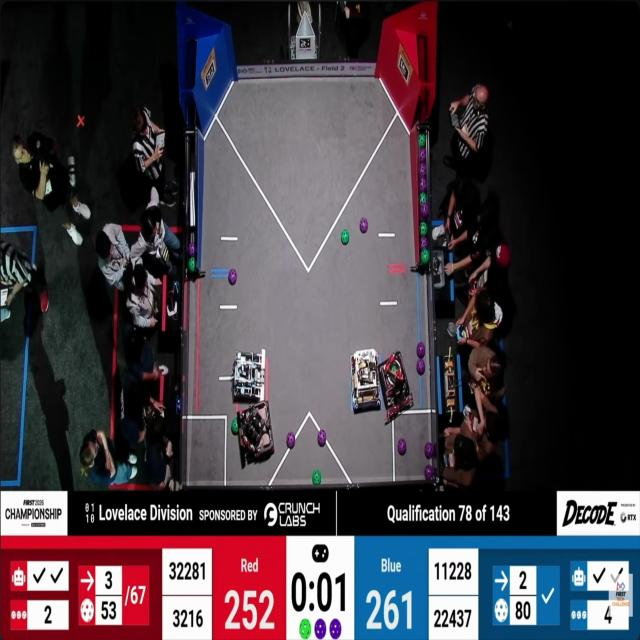artifact_green: (299, 619, 311, 639), (420, 249, 430, 264), (231, 418, 239, 436), (312, 470, 321, 485), (341, 230, 349, 245), (420, 236, 428, 250), (418, 134, 426, 148), (420, 222, 427, 236), (189, 258, 195, 271), (420, 192, 426, 204), (391, 363, 399, 372)
artifact_purple: (330, 619, 341, 639), (315, 619, 326, 639), (416, 358, 426, 376), (228, 269, 237, 285), (420, 203, 428, 221), (425, 442, 434, 458), (318, 429, 326, 446), (425, 465, 434, 480), (419, 176, 427, 192), (398, 439, 406, 455), (417, 342, 425, 358), (287, 432, 295, 448), (360, 218, 368, 233), (419, 147, 426, 163), (420, 237, 428, 250), (189, 243, 195, 256), (420, 163, 426, 176)
